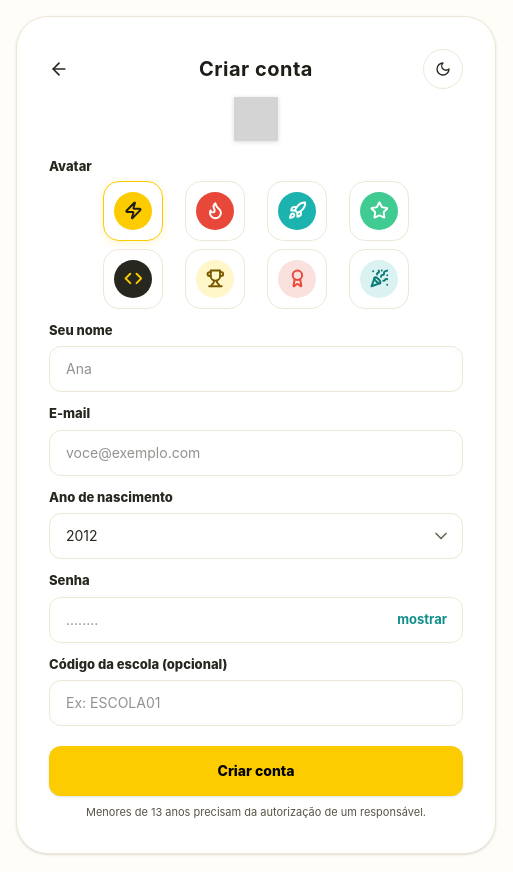
it: Integração de CTAs - Landing Page e Aplicação do Aluno › 9. Cadastro com idade < 13 segue para /app/parental-consent
In the field labelled "Seu nome": (256,369) [49,346,463,392], type "Pedro Kid"
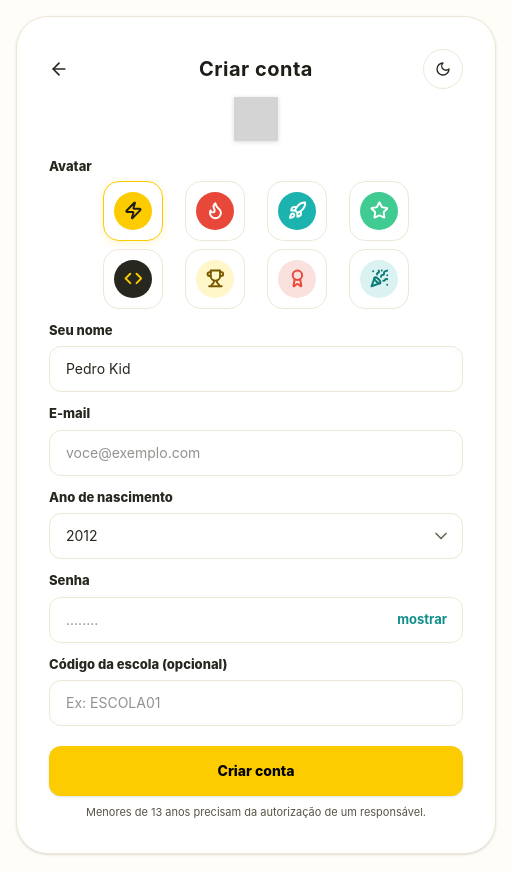
In the field labelled "E-mail": (256,453) [49,430,463,476], type "pedro@exemplo.com"
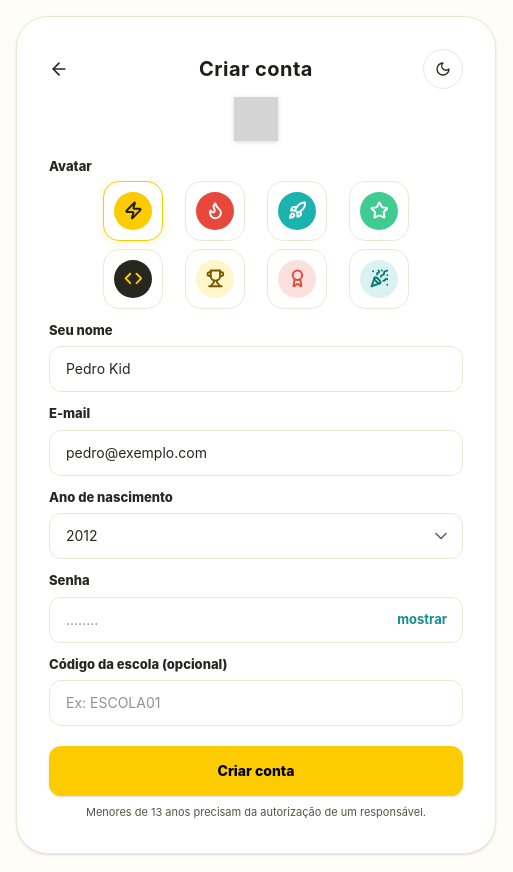
Select "2018" in the dropdown labelled "Ano de nascimento": (256,536) [49,513,463,559]
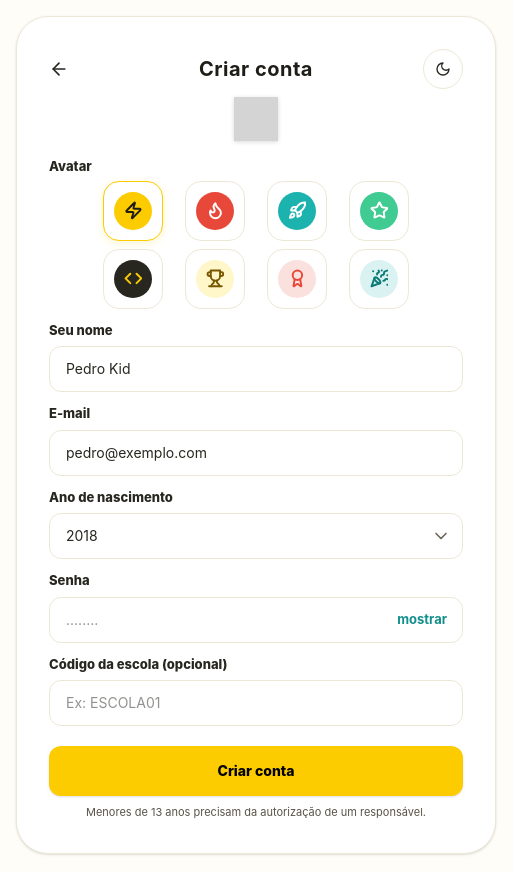
In the password field labelled "Senha": (256,620) [49,597,463,643], type "123456"
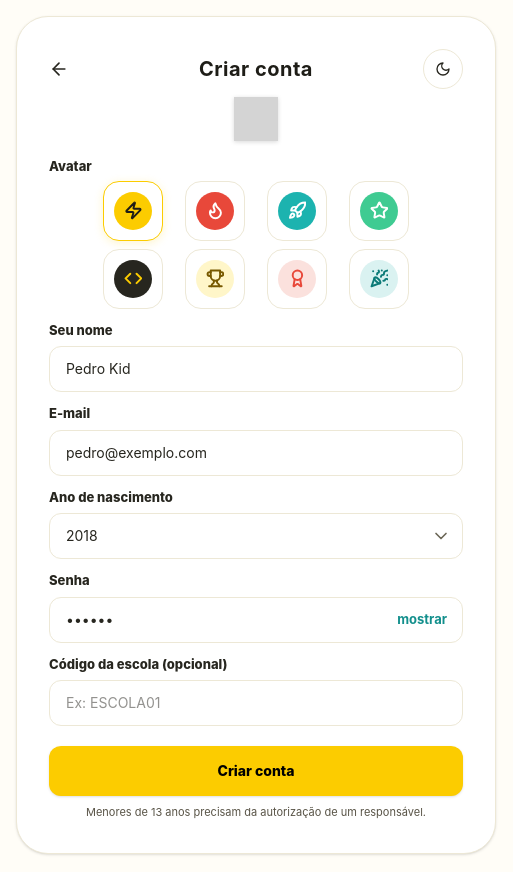
Click the button "Criar conta": (256,771) [49,746,463,796]
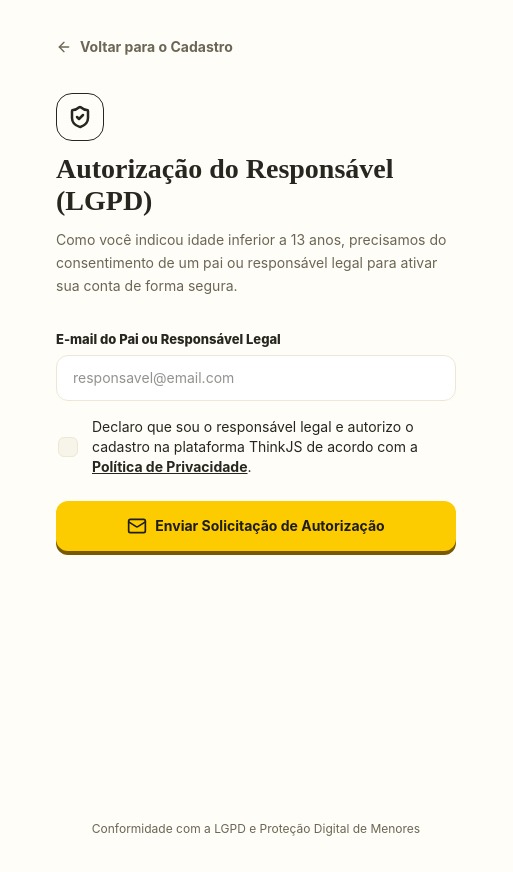
Check: the heading "Autorização do Responsável (LGPD)" is shown, box [56,153,394,216]
